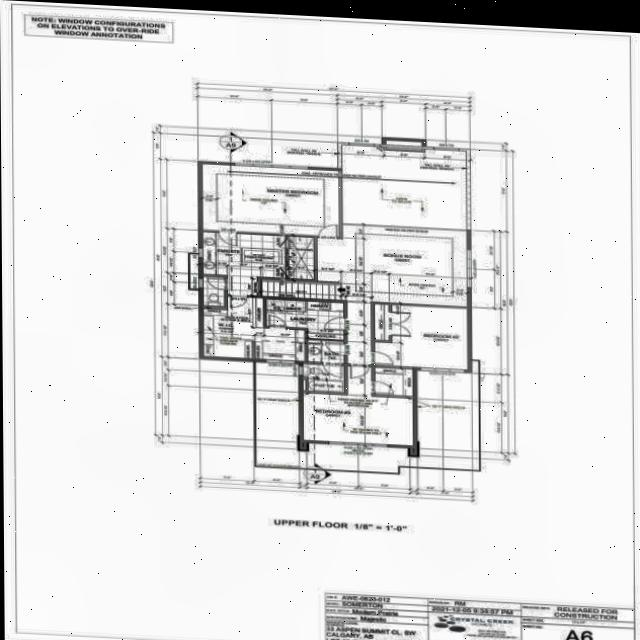room: (199, 164, 343, 237), (301, 364, 417, 446), (201, 295, 308, 362), (373, 304, 471, 370), (200, 232, 288, 297), (264, 299, 346, 340), (302, 364, 346, 393), (373, 367, 414, 397), (288, 236, 314, 280), (307, 340, 345, 364), (203, 276, 225, 307), (374, 304, 389, 341)
